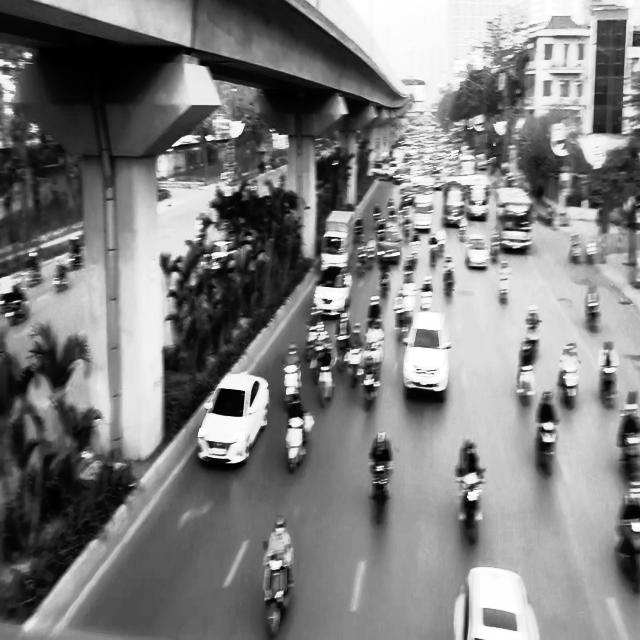car: (197, 372, 270, 466), (453, 566, 540, 639), (403, 311, 452, 401)
motorbike: (457, 466, 486, 546)
